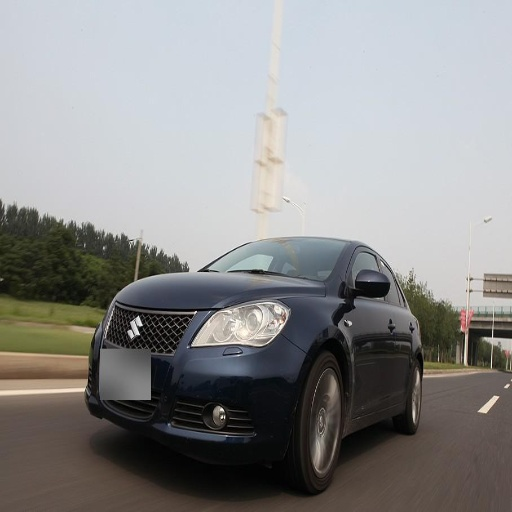front_bumper: (91, 308, 307, 463)
front_glass: (202, 238, 347, 281)
front_left_door: (347, 246, 393, 419)
